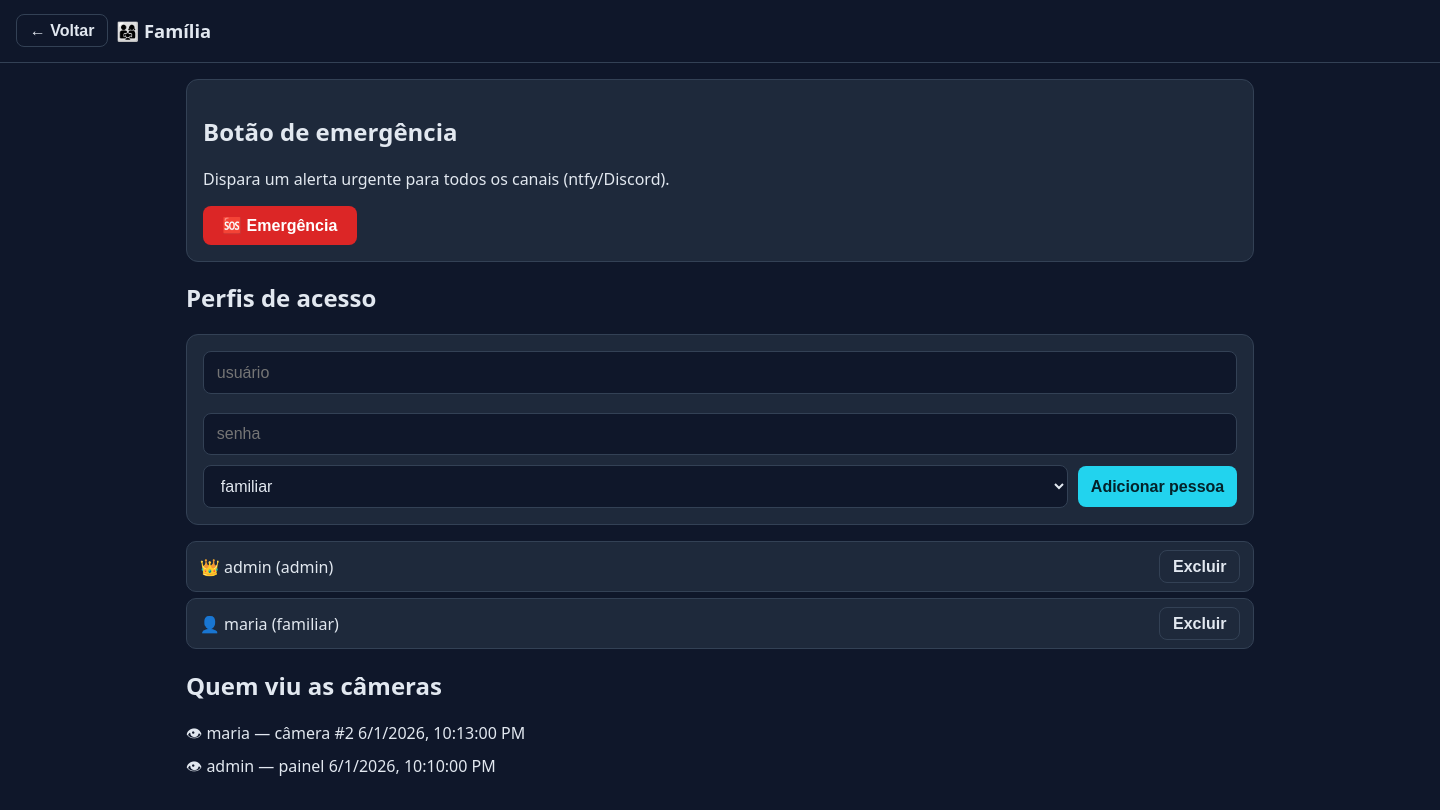
Test: Family › can cancel the emergency arming
Click the button "🆘 Emergência".
click(280, 226)  # box x1=203 y1=206 x2=356 y2=245
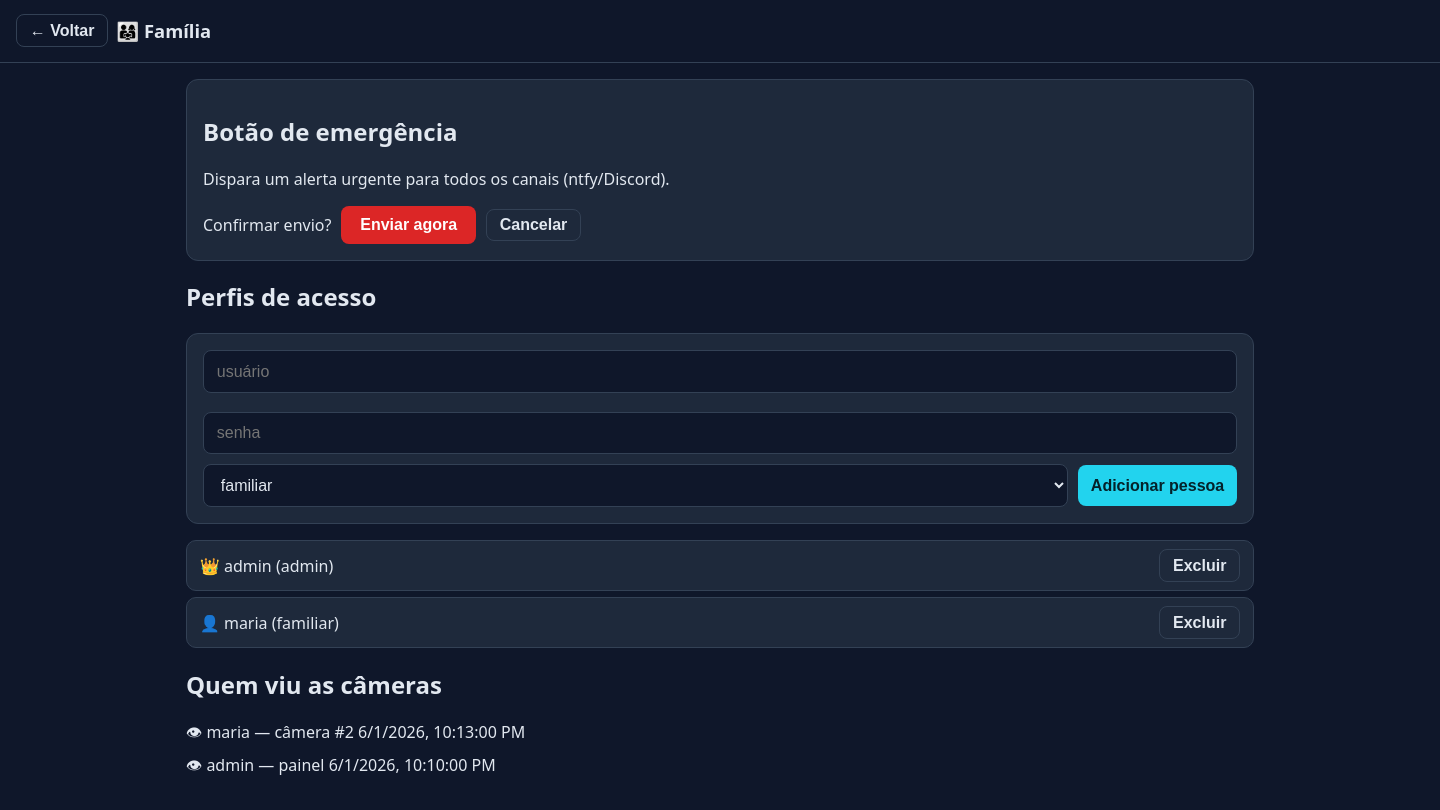
Click the button "Cancelar".
click(534, 225)  # box x1=486 y1=209 x2=581 y2=241
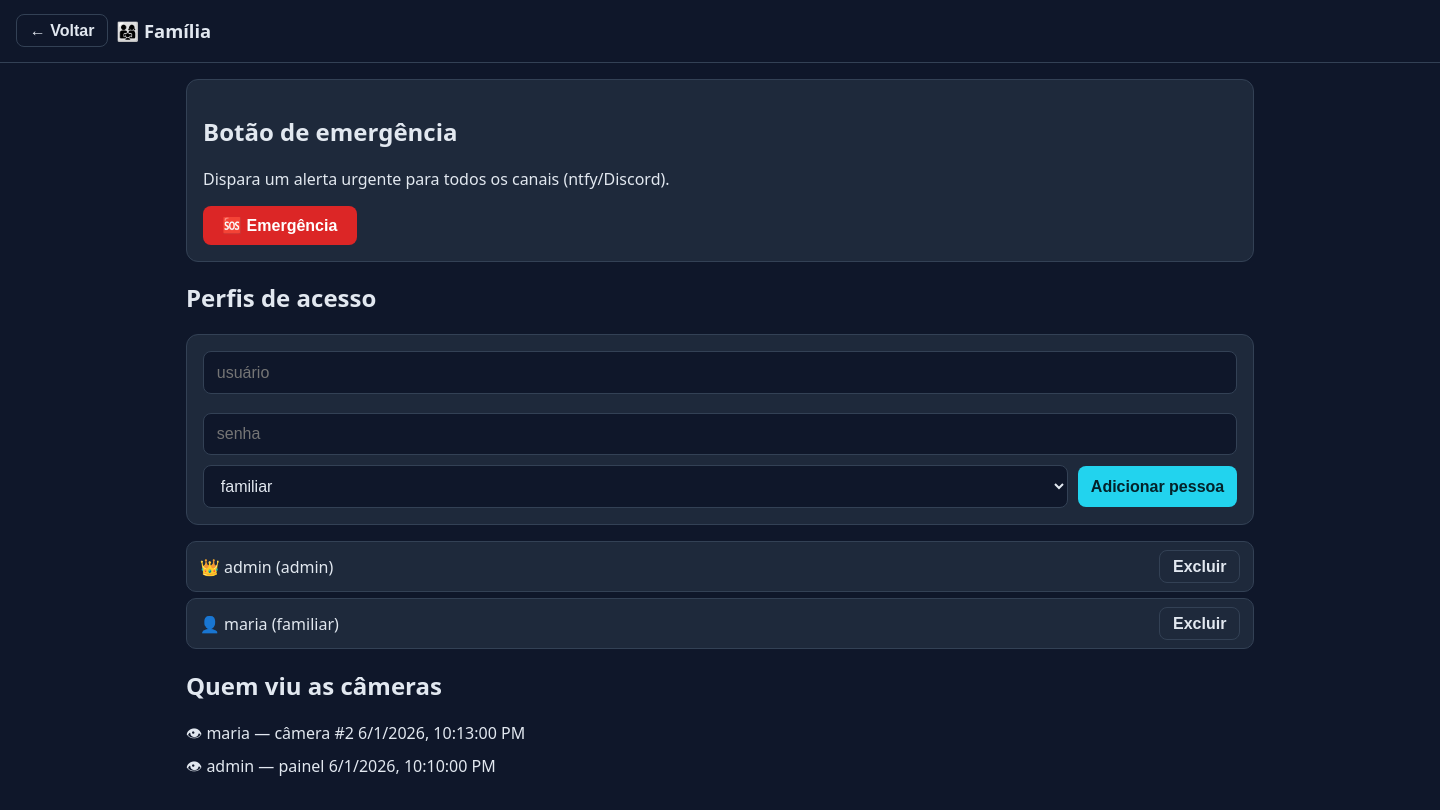
expect the button "Enviar agora" is gone: met
